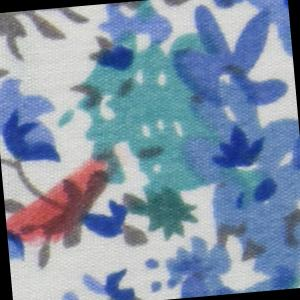Stain: (1, 142, 129, 257)
